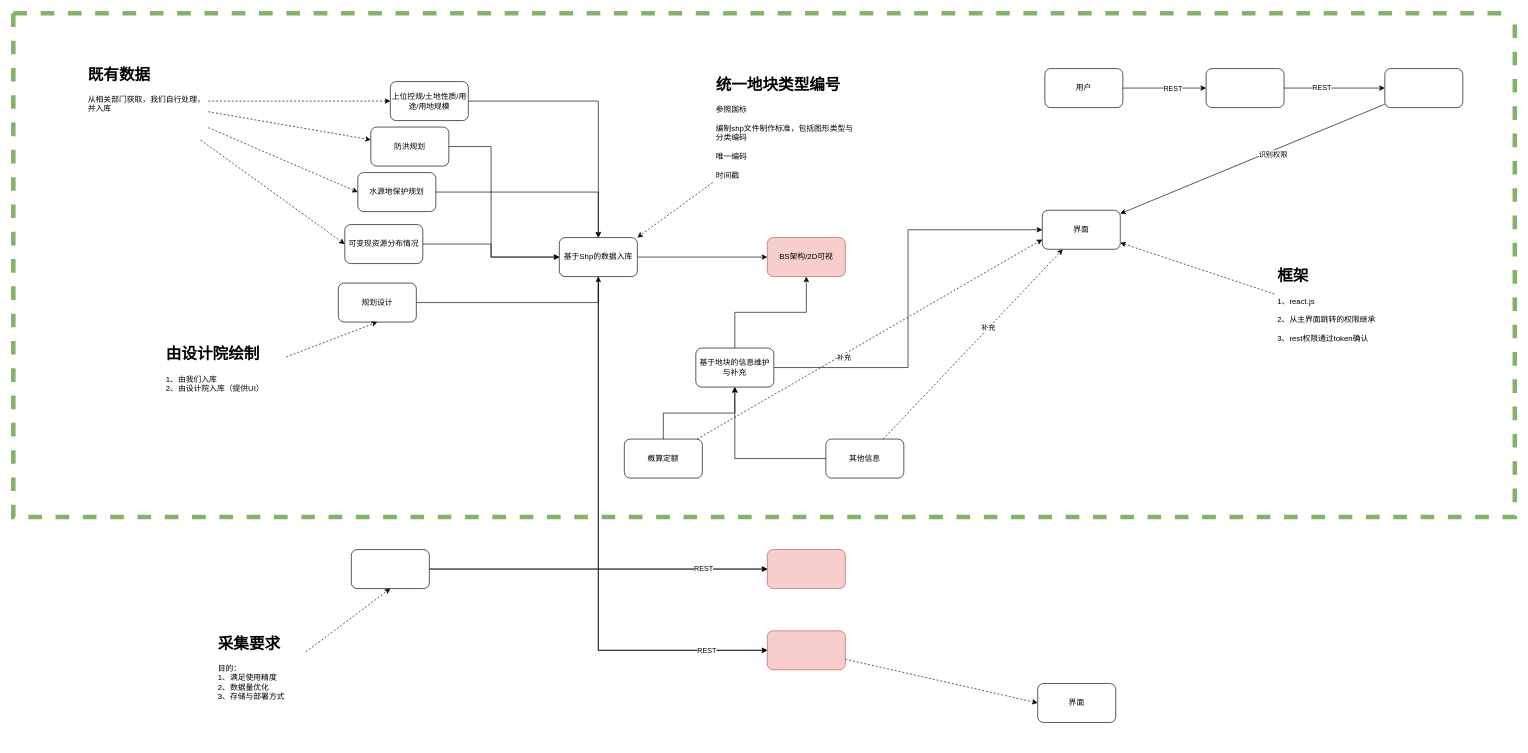
This 1528x753 diagram has some shape labels left out. The shapes that lost their labels are listed below. From the top down, each one's box as (x1, y1, x2, y2) in pixels, then its label:
(1205, 68, 1284, 108): token
(1384, 68, 1463, 108): 获取任务
(351, 549, 429, 589): 倾斜摄影采集
(767, 549, 845, 589): BS架构/3D可视
(767, 630, 845, 670): BS/3D可视
